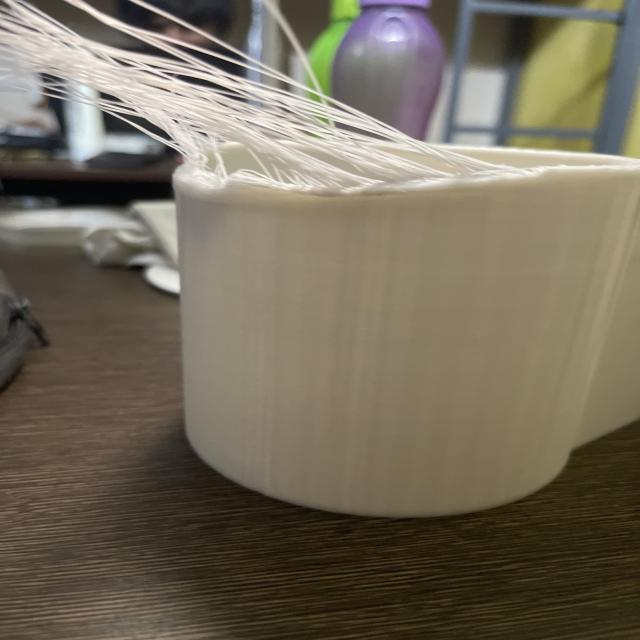stringing: (5, 45, 519, 196)
